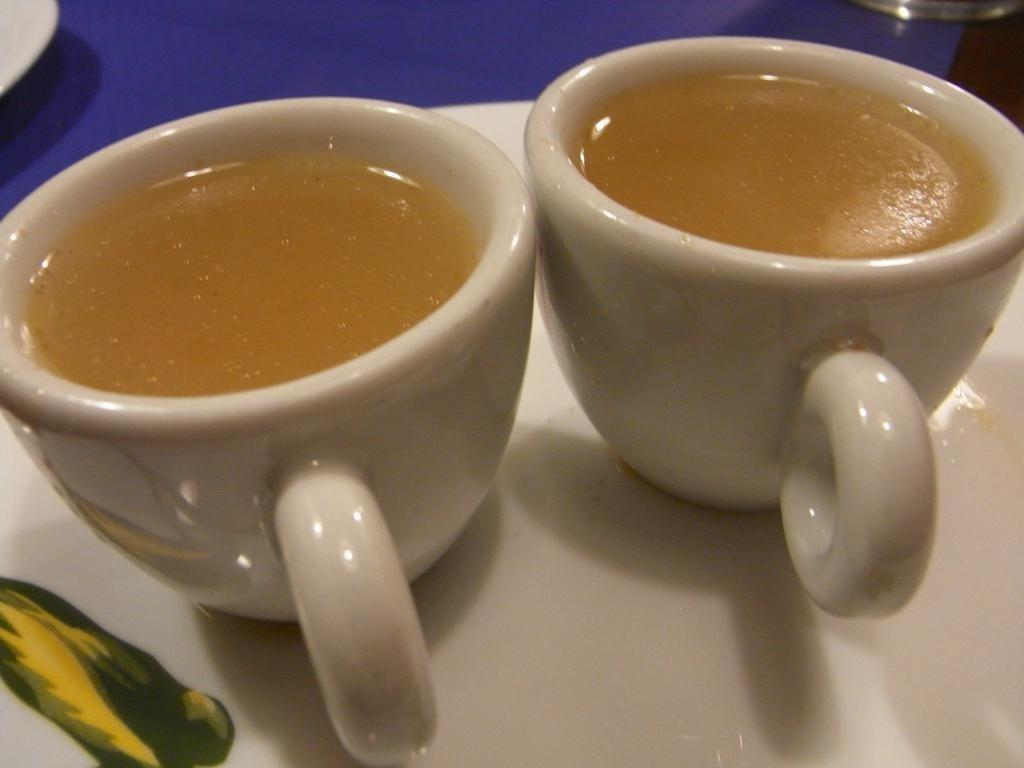cup-handle: (1, 92, 540, 760), (528, 32, 1023, 619)
